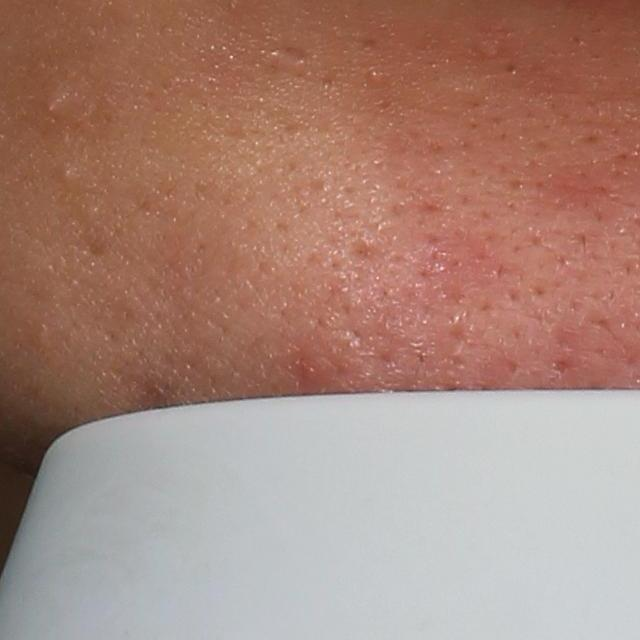atrophic_scar: (344, 240, 388, 268), (275, 42, 312, 66)
comedo: (42, 92, 66, 122), (60, 163, 78, 186)
